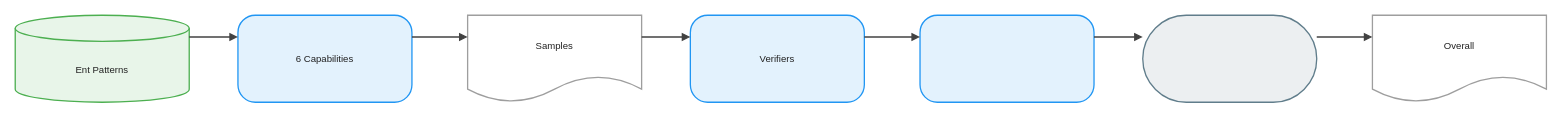
This 1563x118 diagram has some shape labels left out. The shapes that lost their labels are listed below. From the top down, each one's centre as x and y in pixels, then its label:
At (1006,58): "Model Output".
At (1229,58): "Prog Judge".
